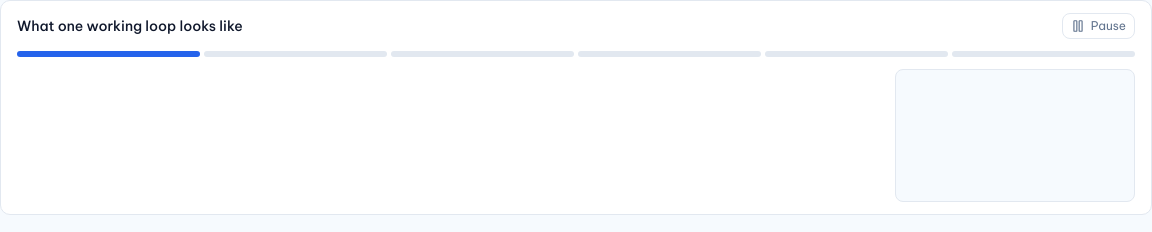
Test: ResearchFlowAnimation › gives every stage descriptive text, not just a picture
Click the button named "Stage 6: The 14-section specification": point(1044, 54) 952,51 -> 1135,57
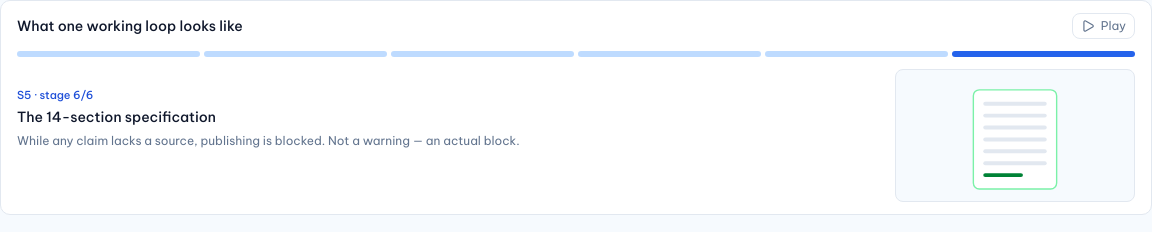
Now the text "publishing is blocked" is shown, box 17,133 -> 520,148
